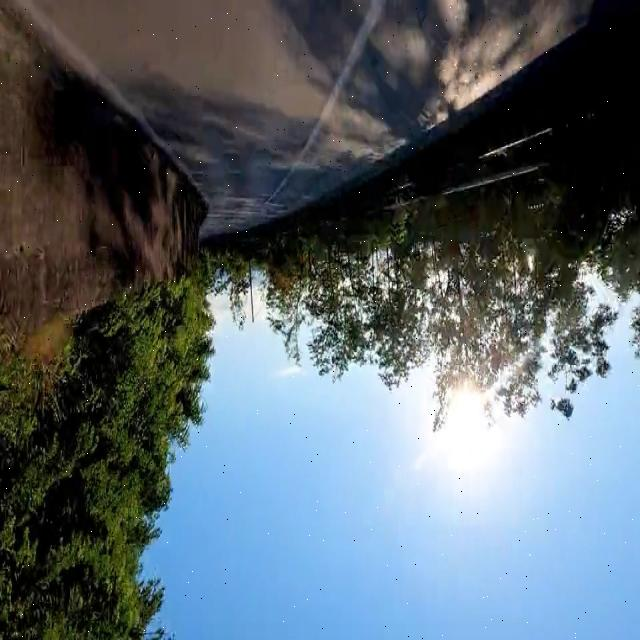lane: (22, 2, 591, 237), (266, 1, 385, 205), (266, 1, 385, 204)
road: (22, 2, 591, 237)
